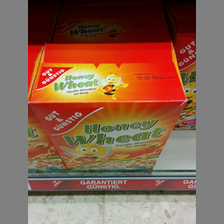cereal: (25, 42, 188, 177)
